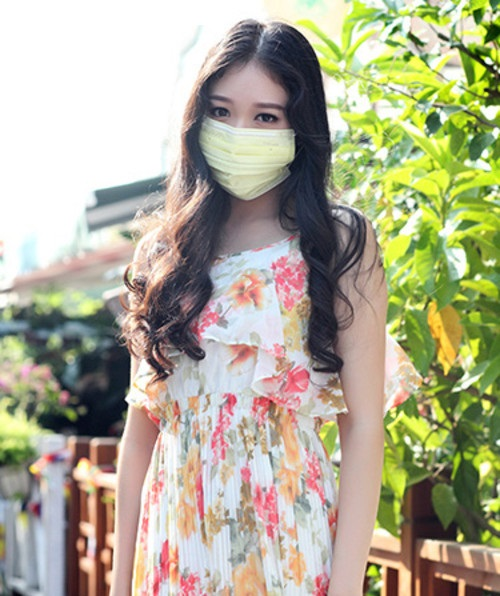face_mask: (200, 73, 295, 202)
